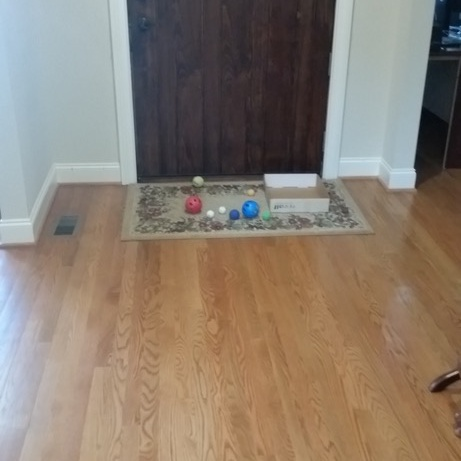ball: (182, 191, 206, 217), (238, 198, 262, 222)
